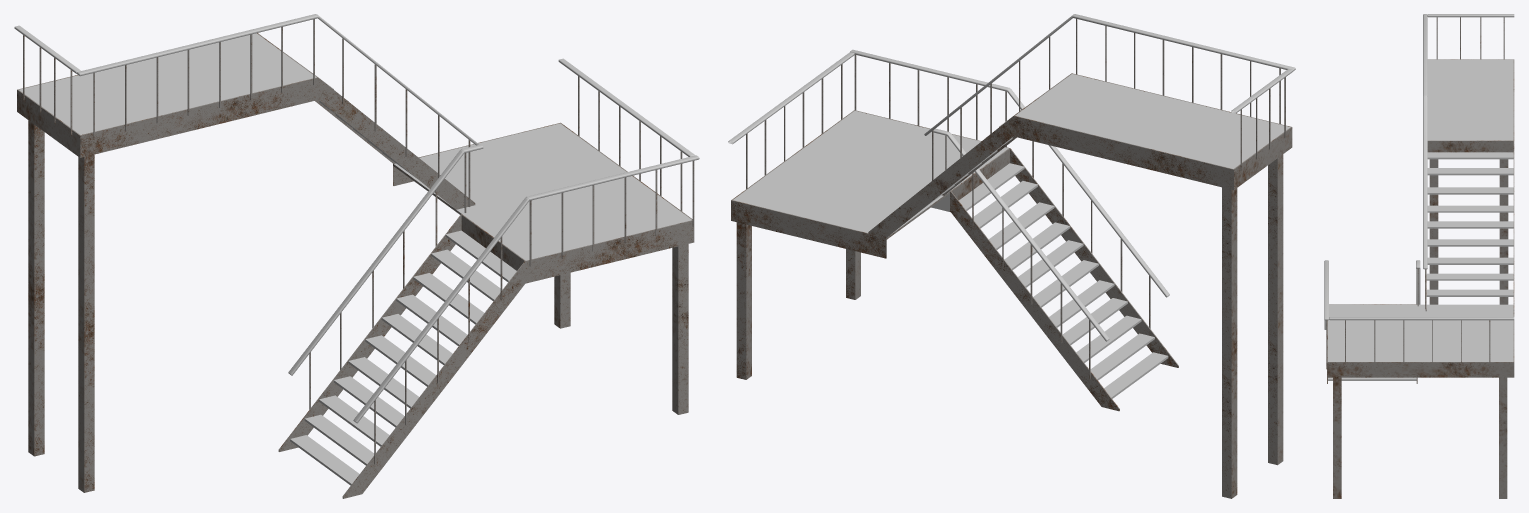
The model's file is Stairs01.FBX.
3 views of the same model, side by side, from view 1: azimuth 30°, elevation 25°; view 2: azimuth 150°, elevation 25°; view 3: azimuth 270°, elevation 25° (orthographic). The views are drawn at different scales.
Visible parts, largest first — view 1: Stairs; view 2: Stairs; view 3: Stairs.
Part boxes in pixels (<box>): Stairs: <box>14,14,699,498</box>; Stairs: <box>728,14,1295,498</box>; Stairs: <box>1324,14,1514,498</box>.
Bounding box in the file's own units: 700 × 516 × 298.
